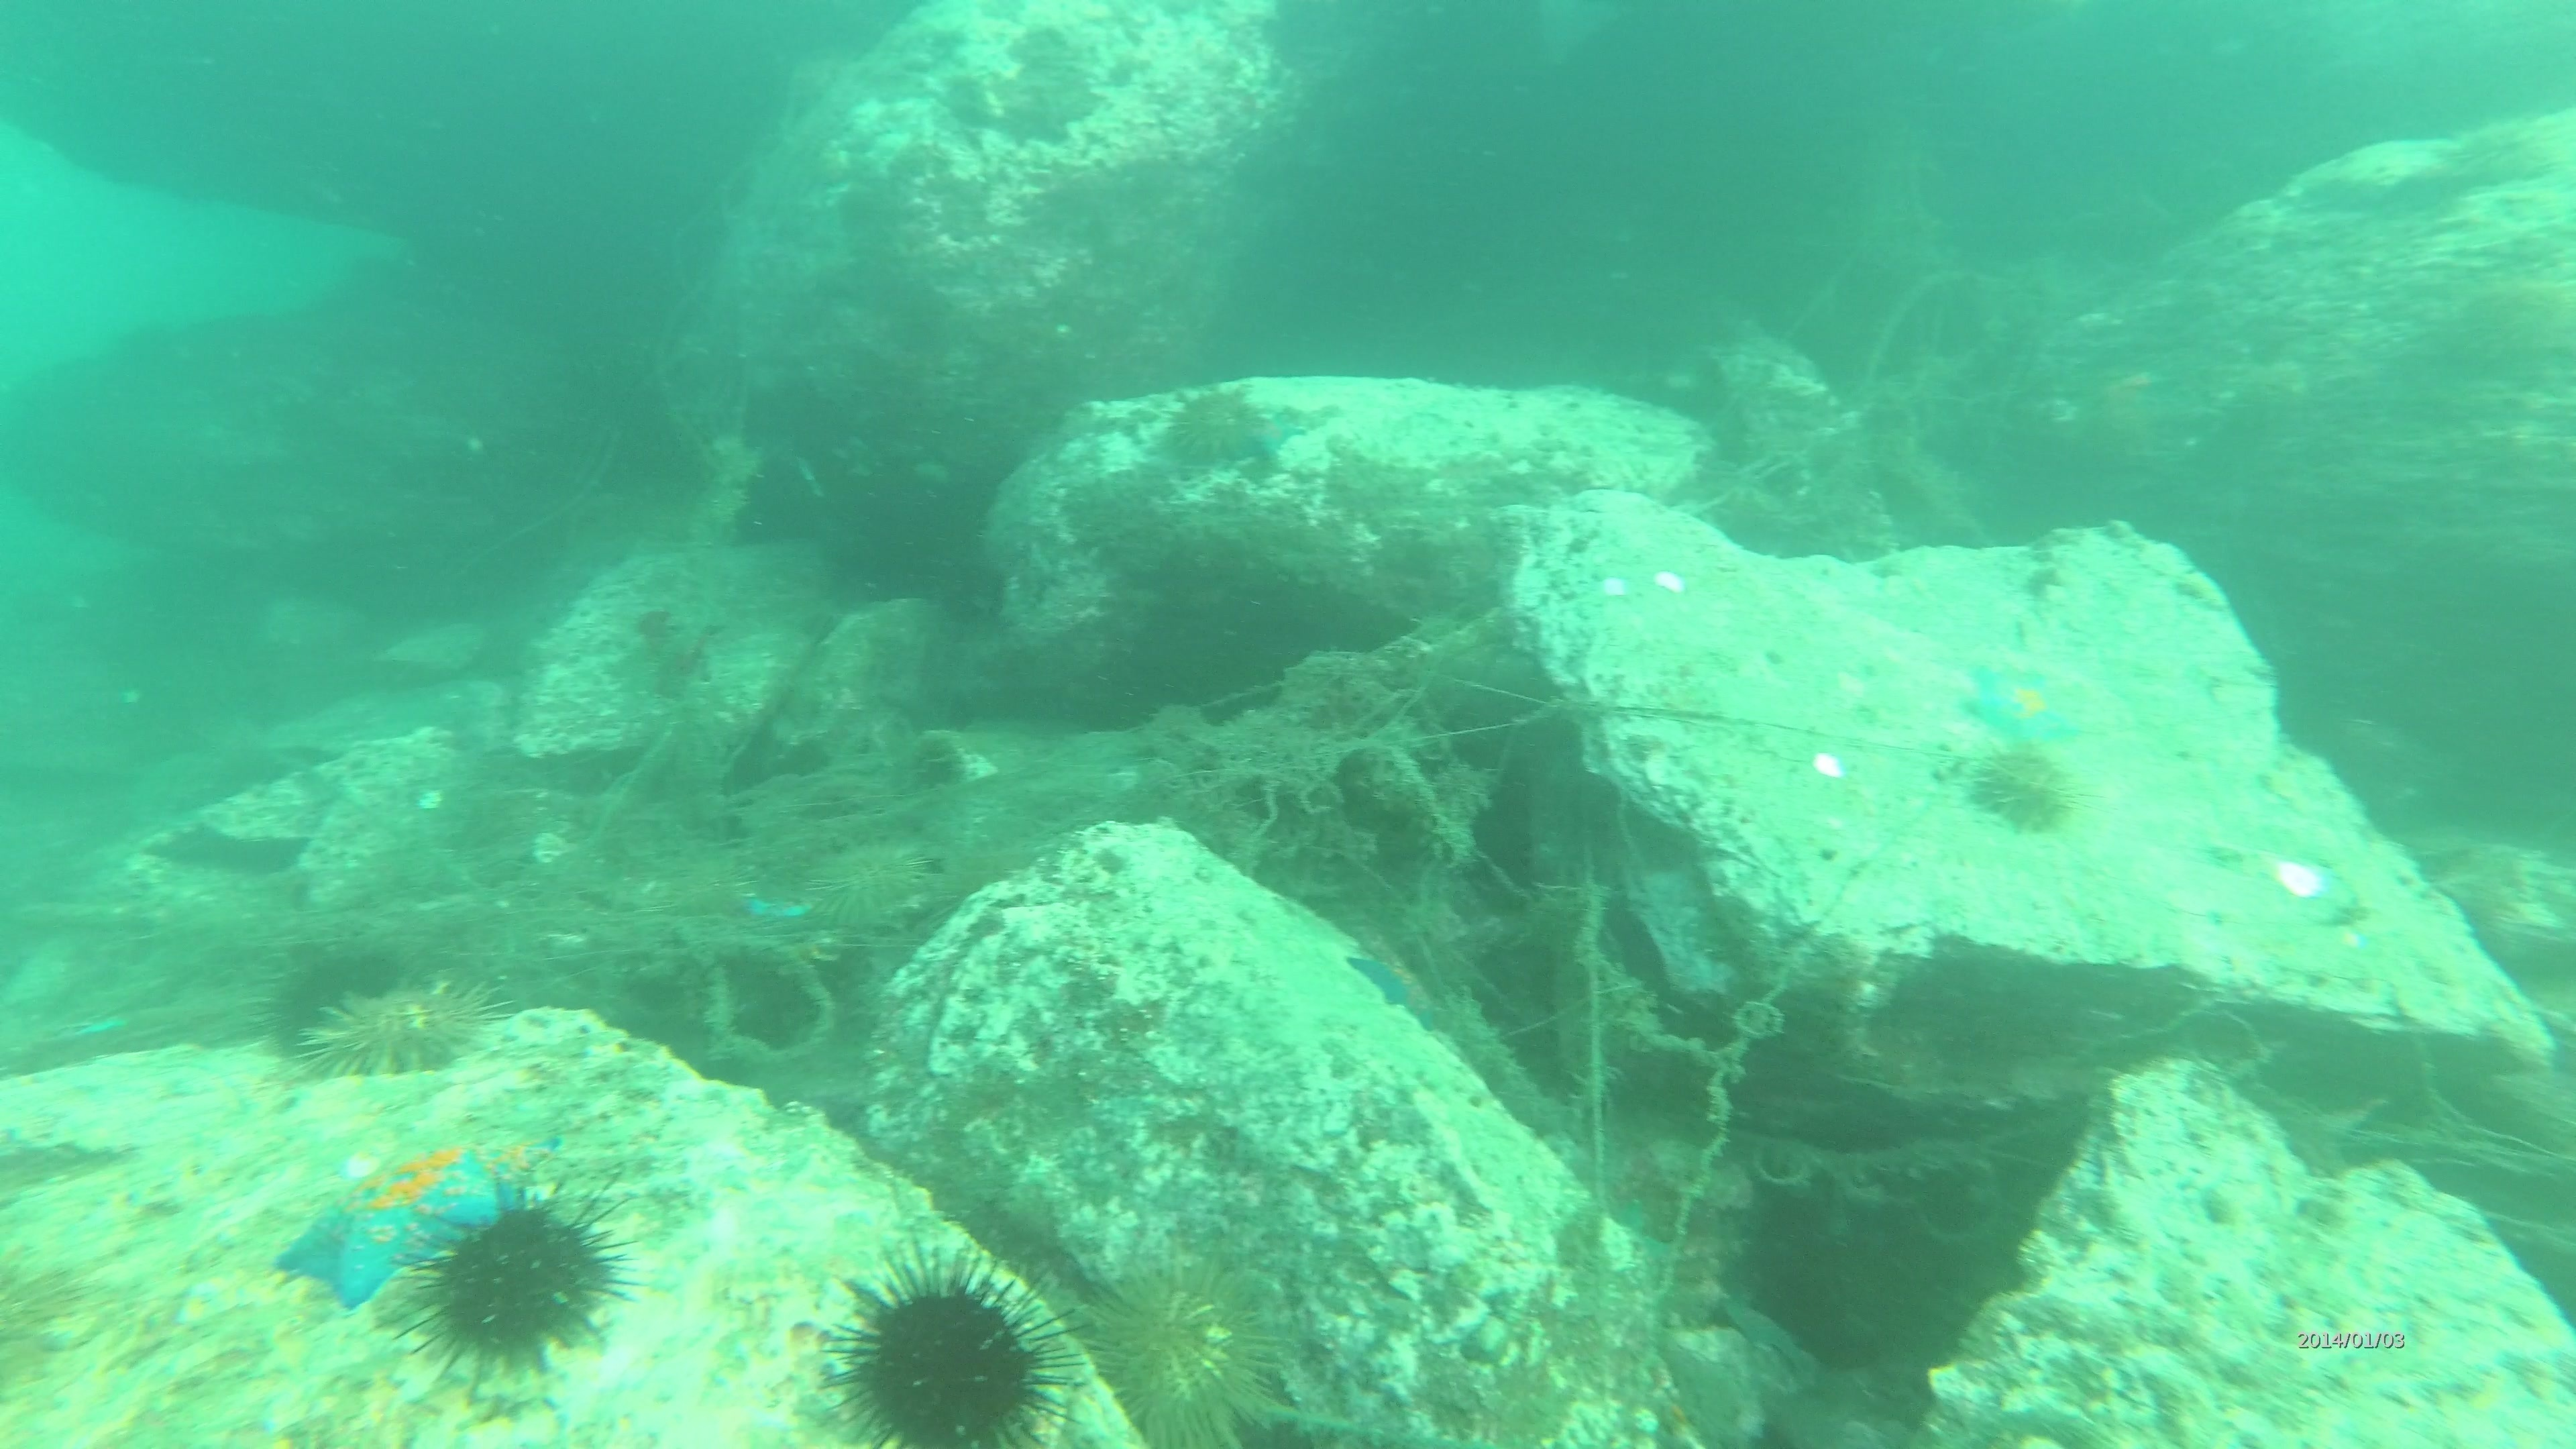echinus: (817, 1240, 1083, 1444), (400, 1185, 637, 1382), (1079, 1253, 1286, 1442), (295, 966, 501, 1086), (257, 934, 409, 1063), (791, 830, 941, 941), (1154, 380, 1284, 481), (1964, 743, 2079, 840)
starfish: (272, 1134, 545, 1315), (1960, 656, 2089, 755), (1341, 938, 1444, 1024)
